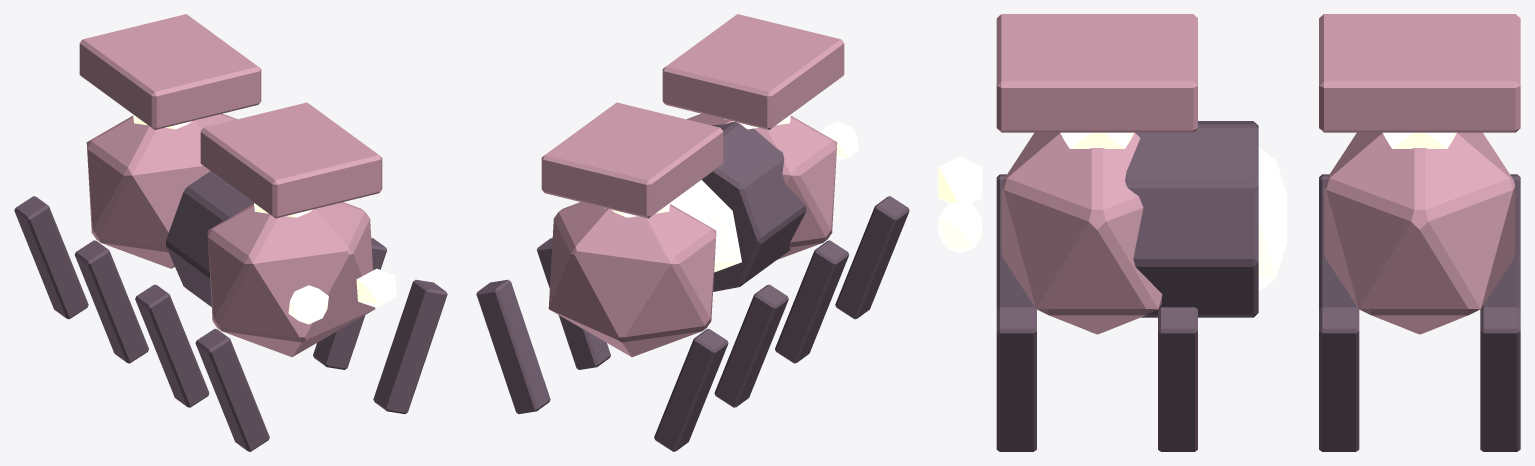
File: fission_crawler.glb
The picture shows the model from 3 angles, left to right: view 1: azimuth 30°, elevation 25°; view 2: azimuth 150°, elevation 25°; view 3: azimuth 270°, elevation 25°; orthographic projection. The views are drawn at different scales.
Visible parts, largest first — view 1: BodyPod, BodyPlate, BodyRearPlate, BodyRearPod, BodyLeg1, BodyLeg2, Seam, BodyRearLeg2, BodyRearLeg1, Sensor; view 2: BodyRearPod, BodyRearPlate, BodyPlate, Seam, BodyRearLeg2, BodyRearLeg1, BodyPod, BodyLeg1, BodyLeg2, SeamGlow, Sensor; view 3: BodyRearPod, BodyRearPlate, BodyPlate, BodyPod, Seam, BodyLeg1, BodyRearLeg2, BodyRearLeg1, BodyLeg2, Sensor, SeamGlow, BodyCore (+1 smaller).
Boxes of the visible parts, left/top/right/bottom form: BodyPod: left=207, top=202, right=375, bottom=356; BodyPlate: left=200, top=102, right=382, bottom=218; BodyRearPlate: left=79, top=14, right=261, bottom=129; BodyRearPod: left=86, top=113, right=237, bottom=268; BodyLeg1: left=195, top=279, right=447, bottom=451; BodyLeg2: left=135, top=238, right=386, bottom=407; Seam: left=166, top=171, right=253, bottom=306; BodyRearLeg2: left=14, top=196, right=88, bottom=319; BodyRearLeg1: left=75, top=240, right=148, bottom=363; Sensor: left=288, top=268, right=396, bottom=324; BodyRearPod: left=548, top=202, right=716, bottom=356; BodyRearPlate: left=541, top=102, right=723, bottom=218; BodyPlate: left=662, top=14, right=844, bottom=129; Seam: left=702, top=122, right=806, bottom=291; BodyRearLeg2: left=476, top=279, right=728, bottom=451; BodyRearLeg1: left=537, top=238, right=788, bottom=407; BodyPod: left=686, top=113, right=837, bottom=259; BodyLeg1: left=835, top=196, right=909, bottom=319; BodyLeg2: left=775, top=240, right=848, bottom=363; SeamGlow: left=670, top=180, right=741, bottom=272; Sensor: left=819, top=121, right=858, bottom=160; BodyRearPod: left=1324, top=132, right=1515, bottom=334; BodyRearPlate: left=1319, top=14, right=1520, bottom=132; BodyPlate: left=996, top=14, right=1197, bottom=132; BodyPod: left=1001, top=132, right=1162, bottom=334; Seam: left=1125, top=121, right=1258, bottom=317; BodyLeg1: left=996, top=174, right=1036, bottom=451; BodyRearLeg2: left=1480, top=174, right=1520, bottom=451; BodyRearLeg1: left=1319, top=174, right=1359, bottom=451; BodyLeg2: left=1158, top=307, right=1197, bottom=451; Sensor: left=938, top=156, right=982, bottom=253; SeamGlow: left=1258, top=147, right=1287, bottom=291; BodyCore: left=1060, top=132, right=1134, bottom=148.
Bounding box in the file's own units: 0.916 × 0.9686 × 1.44.
